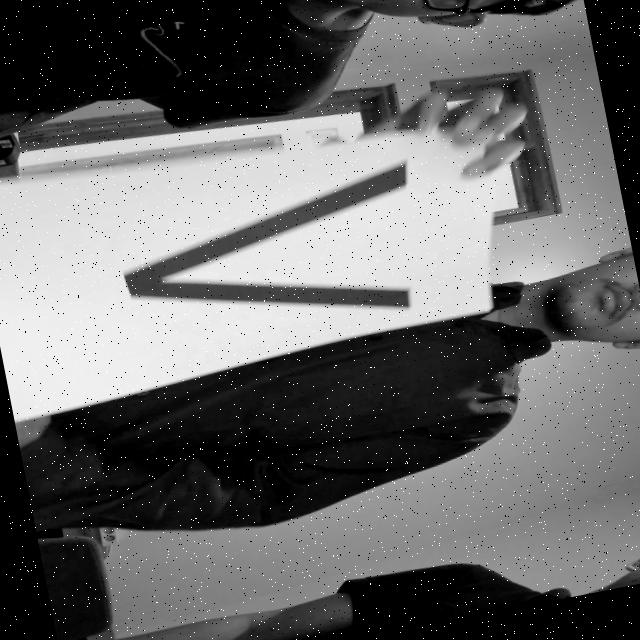v: (78, 145, 454, 386)
